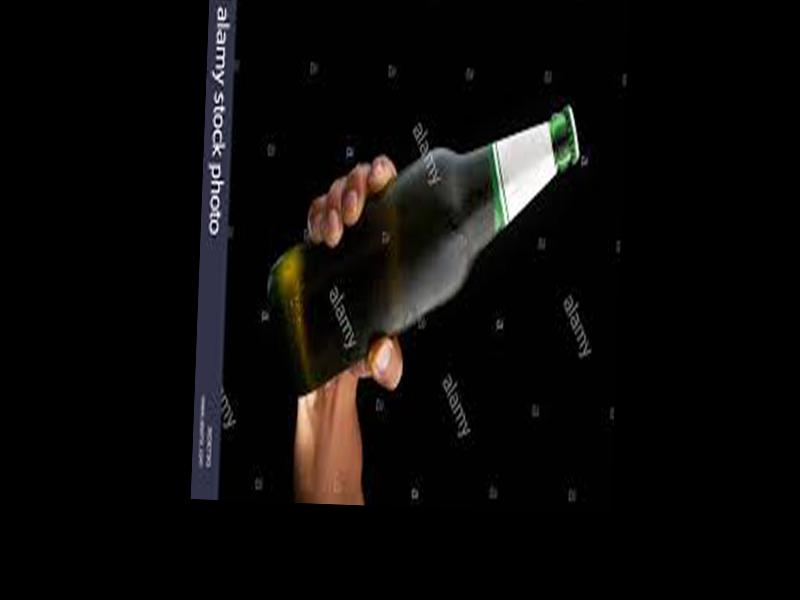Beer: (260, 90, 583, 406)
